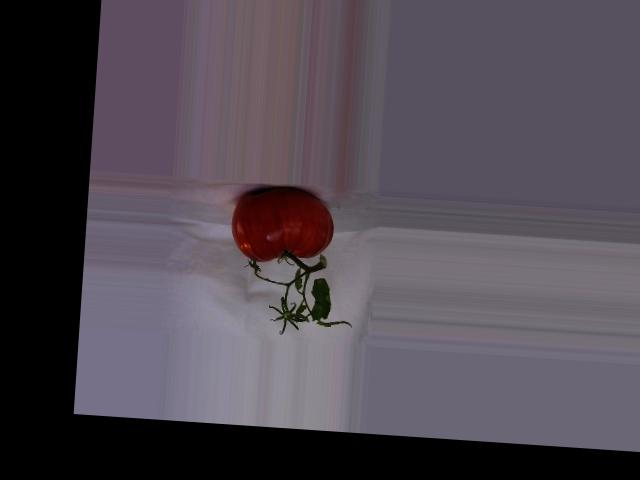tomato: (229, 183, 336, 266)
